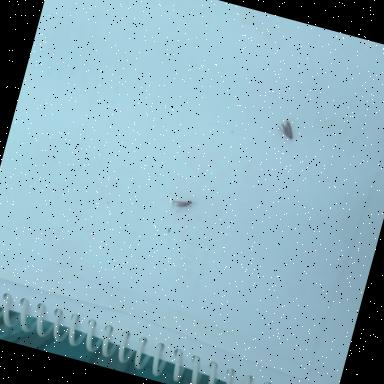pbw: (170, 195, 198, 218), (274, 118, 297, 140)
